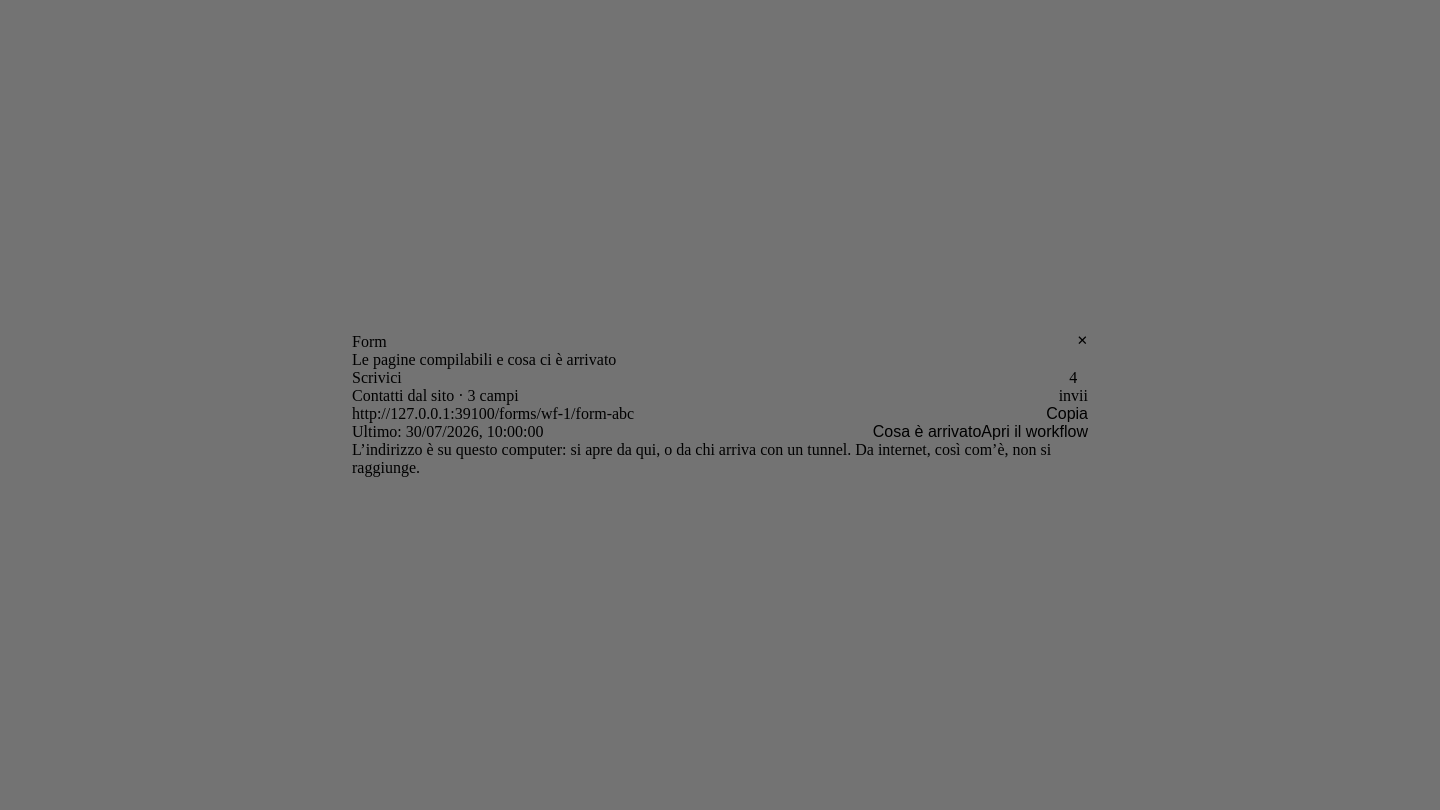
la finestra dei form › legge cosa è arrivato solo quando lo si chiede
Expected: the text "Scrivici" is shown, x1=352 y1=369 x2=402 y2=386
Click the button "Cosa è arrivato" at (927, 432), box x1=873 y1=423 x2=981 y2=441
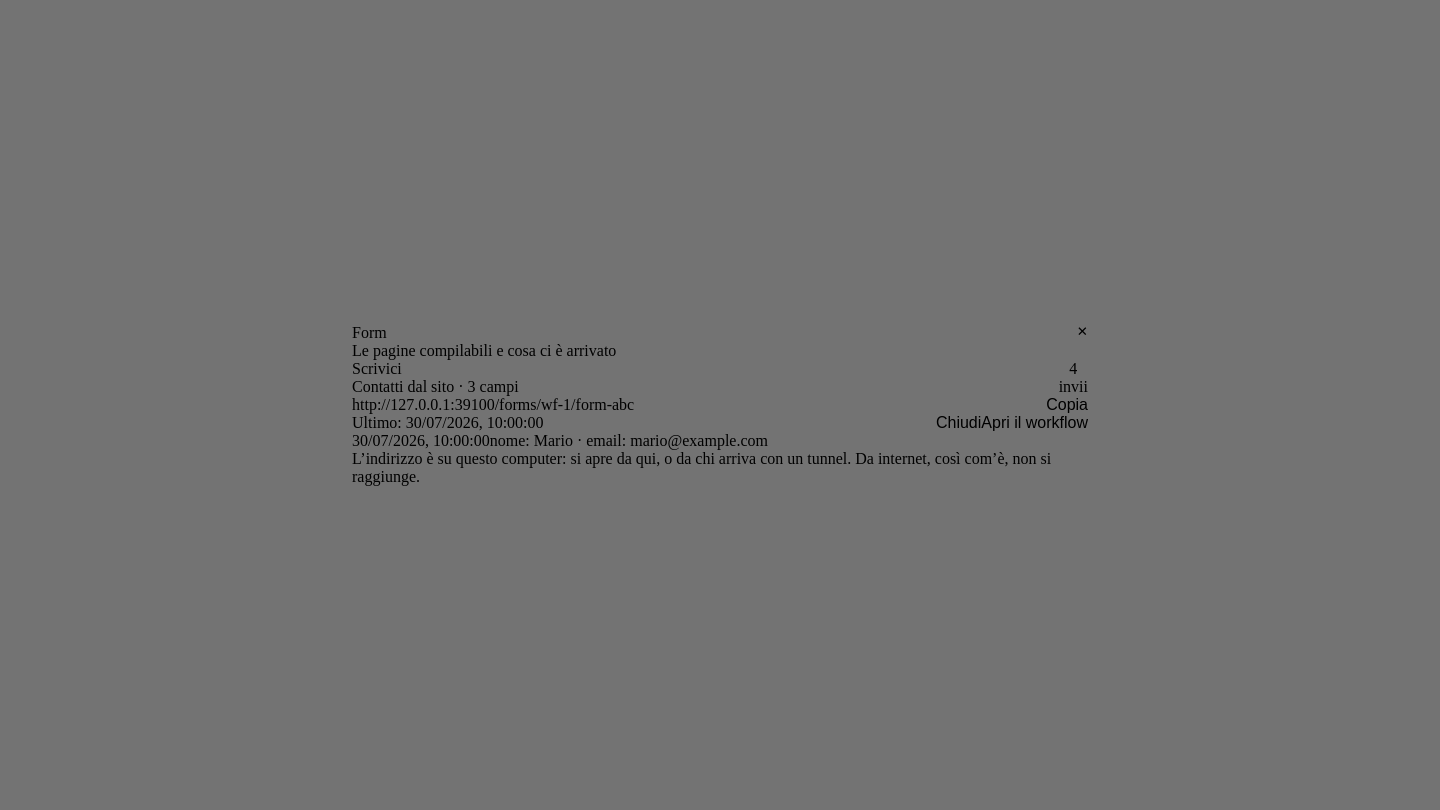
Expected: the text "nome: Mario · email: mario@example.com" is shown, x1=490 y1=432 x2=768 y2=450
